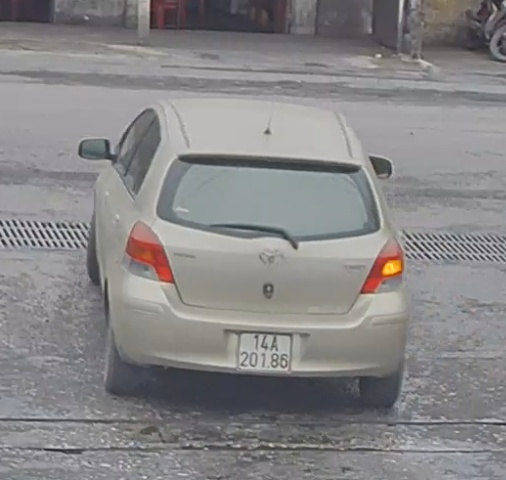vehicle plate: (232, 327, 299, 376)
